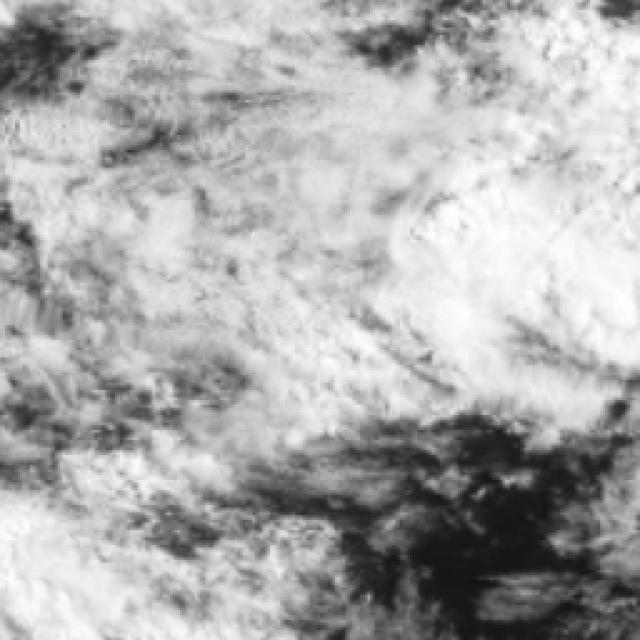CB: (429, 190, 631, 318)
